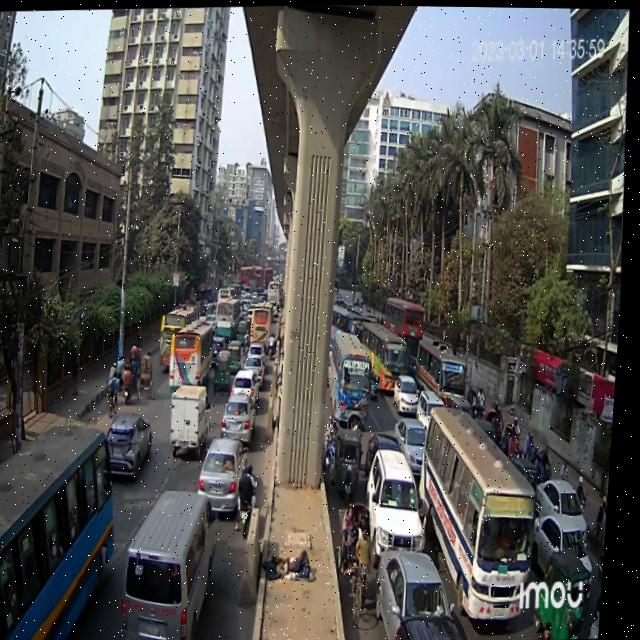cng: (336, 424, 371, 508), (216, 341, 237, 401), (230, 338, 247, 373)
rikshaw: (338, 497, 389, 623), (141, 346, 161, 403), (130, 335, 151, 387)
